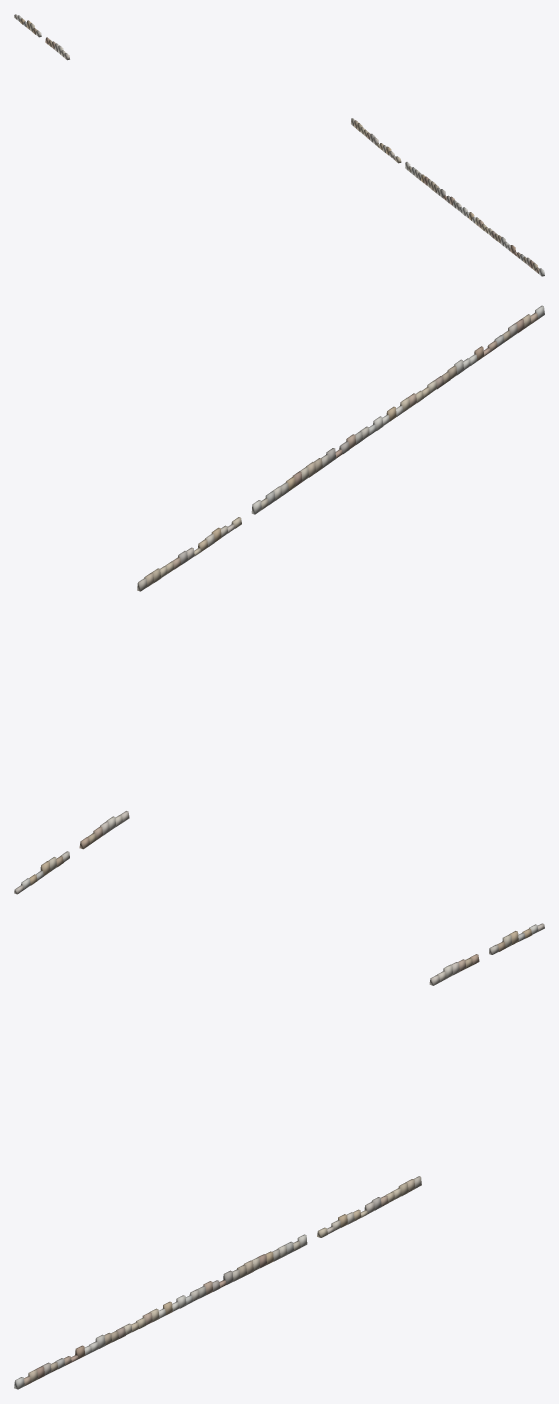
File: farm_-8_3_collision.glb
The picture shows the model from 3 angles, top to bottom: view 1: azimuth 30°, elevation 25°; view 2: azimuth 150°, elevation 25°; view 3: azimuth 330°, elevation 25°; orthographic projection. The views are drawn at different scales.
Visible parts, largest first — view 1: geometry_0; view 2: geometry_0; view 3: geometry_0.
Boxes of the visible parts, x1,y1,x2,y2 form: geometry_0: [14, 14, 544, 276]; geometry_0: [14, 305, 544, 894]; geometry_0: [14, 923, 544, 1389].
Size of the model in its own units: 33.9 by 10.26 by 183.
